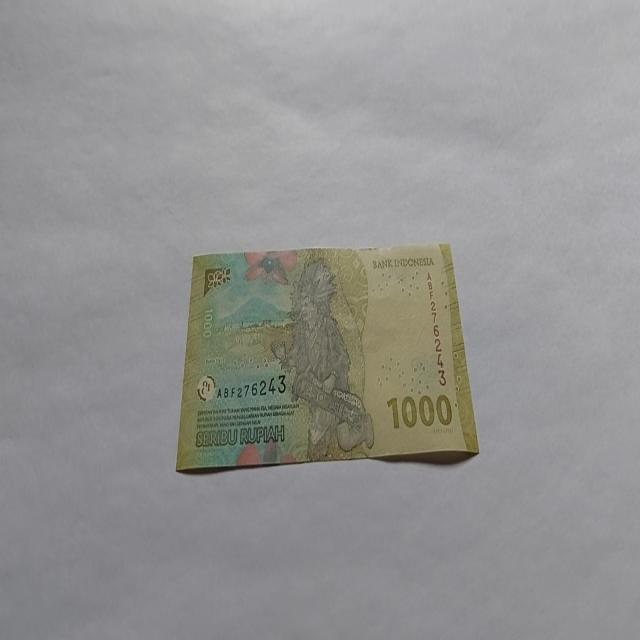seribu rupiah kertas: (175, 241, 480, 474)
